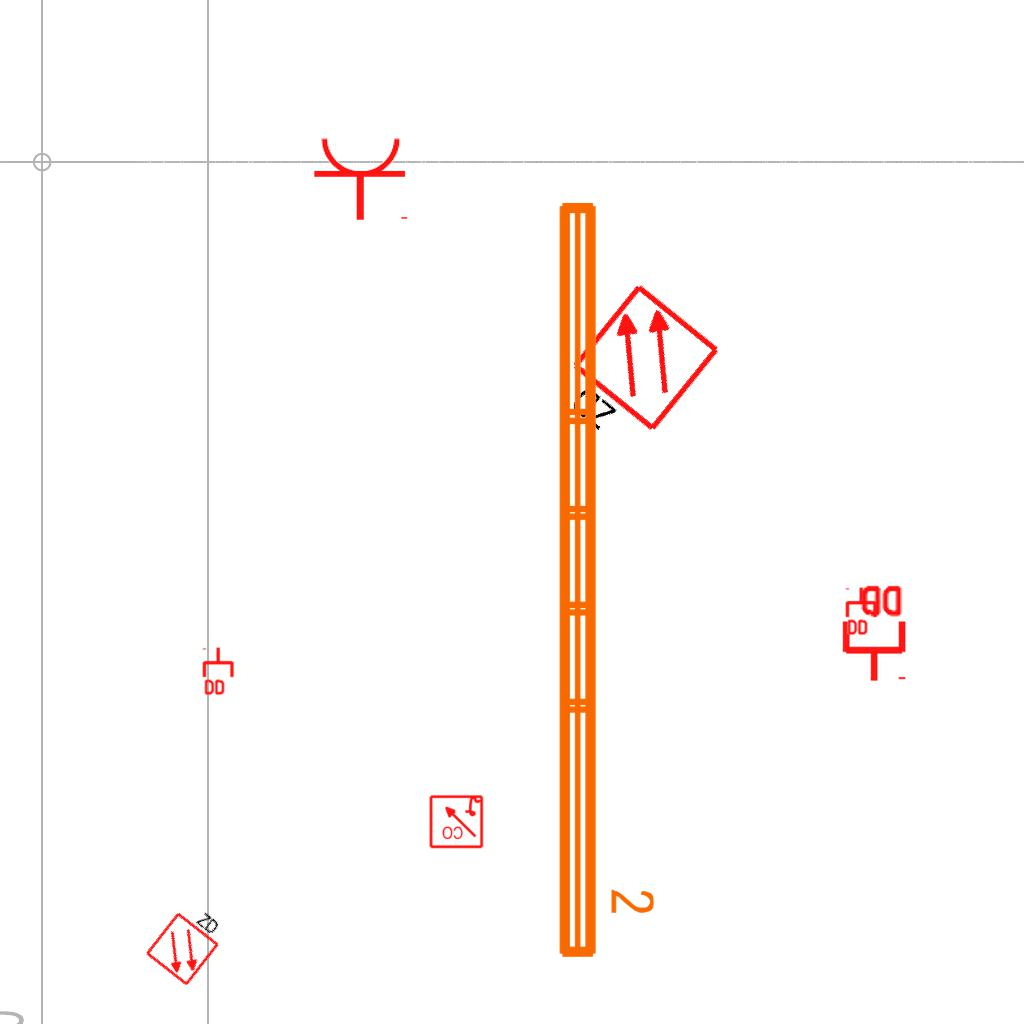Ambulanz_Pendelleuchte_LED: (547, 192, 659, 966)
Datenanschluss_zweifach: (838, 581, 907, 684), (202, 646, 236, 697), (845, 586, 879, 637)
ROA_Rauchmelder_optisch_mit_Signalgeber_(Sockelsirene): (428, 793, 484, 849)
Schukosteckdose_einfach: (312, 135, 412, 222)
ZD_Melder_in_Zwischendecke_mit_Revisionsoeffnung_mind_40_x_40_cm: (543, 279, 727, 468), (142, 894, 233, 988)
